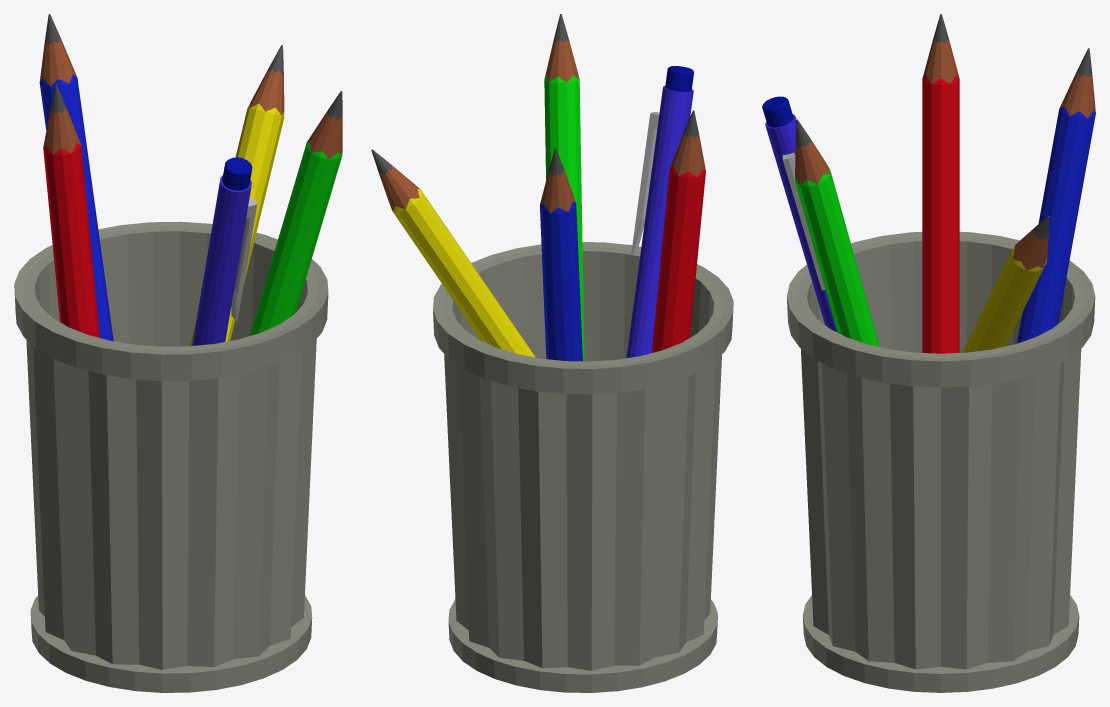
The model's file is Pot à crayons.fbx.
The picture shows the model from 3 angles, left to right: view 1: azimuth 30°, elevation 25°; view 2: azimuth 150°, elevation 25°; view 3: azimuth 270°, elevation 25°; orthographic projection. The views are drawn at different scales.
Visible parts, largest first — view 1: Pot à crayons; view 2: Pot à crayons; view 3: Pot à crayons.
Part boxes in pixels (x1=…): Pot à crayons: x1=14, y1=14, x2=342, y2=692; Pot à crayons: x1=371, y1=14, x2=733, y2=692; Pot à crayons: x1=762, y1=14, x2=1095, y2=692.
Bounding box in the file's own units: 19.05 × 34.7 × 18.56.
